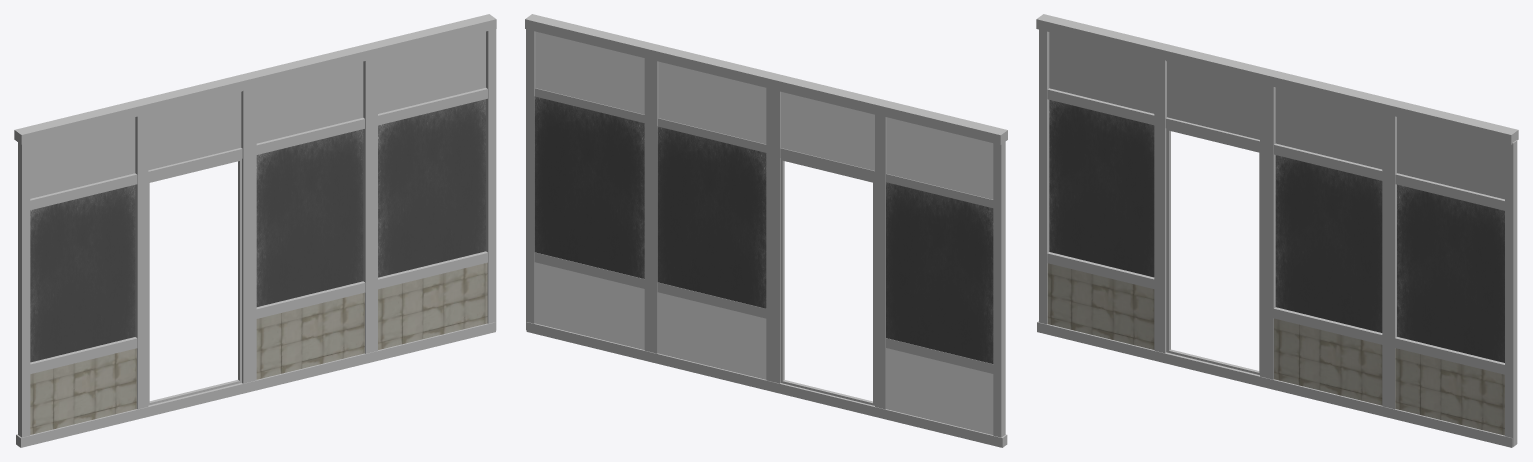
The model's file is shop_f_cafe3.fbx.
3 renders of one model, left to right at view 1: azimuth 30°, elevation 25°; view 2: azimuth 150°, elevation 25°; view 3: azimuth 330°, elevation 25°, orthographic.
Parts seen in each view (by area): view 1: shop_f_cafe3; view 2: shop_f_cafe3; view 3: shop_f_cafe3.
Part boxes in pixels (<box>): shop_f_cafe3: <box>14,14,496,447</box>; shop_f_cafe3: <box>525,14,1007,447</box>; shop_f_cafe3: <box>1036,14,1518,447</box>.
Bounding box in the file's own units: 5.41 × 3.41 × 0.1403.
